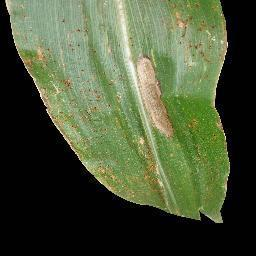Corn_Common_Rust: (5, 0, 127, 144), (88, 145, 171, 215), (128, 44, 179, 144), (211, 80, 233, 226), (163, 0, 230, 43), (179, 43, 231, 81), (71, 145, 87, 172), (186, 115, 201, 136)
